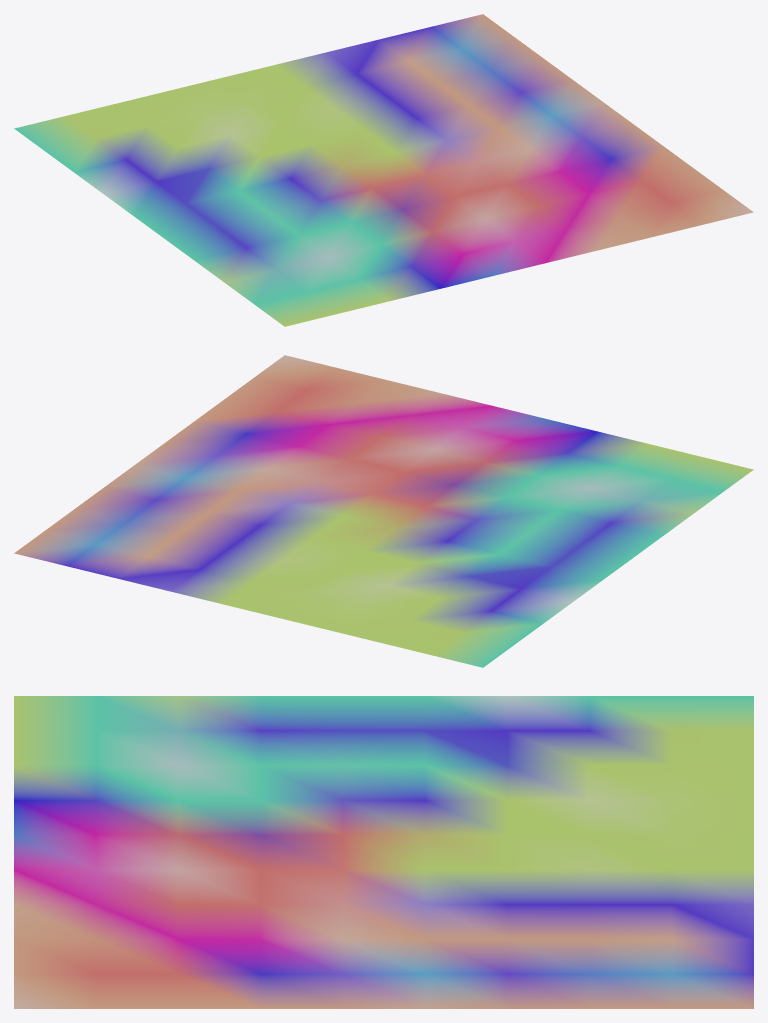
File: colored_plane.fbx
3 renders of one model, top to bottom at view 1: azimuth 30°, elevation 25°; view 2: azimuth 150°, elevation 25°; view 3: azimuth 270°, elevation 25°, orthographic. The views are drawn at different scales.
Parts seen in each view (by area): view 1: Grid; view 2: Grid; view 3: Grid.
Part boxes in pixels (x1,y1,x2,y2): Grid: [14, 14, 753, 326]; Grid: [14, 355, 753, 667]; Grid: [14, 696, 753, 1008].
Size of the model in its own units: 400 by 6.52e-05 by 400.
